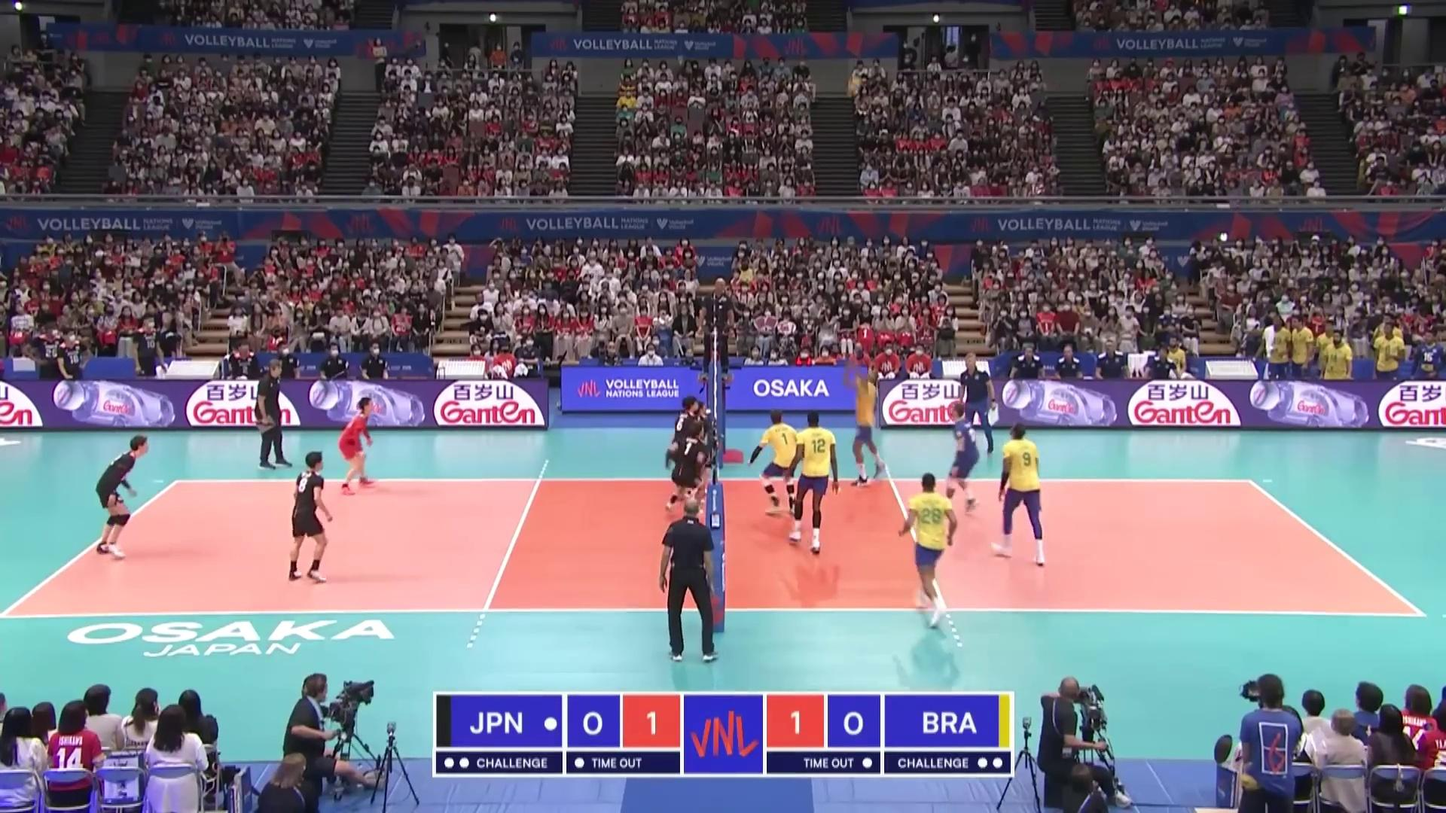player: (901, 474, 957, 629), (991, 422, 1048, 566), (788, 411, 840, 550), (94, 437, 147, 556), (287, 451, 333, 585), (748, 413, 800, 517), (847, 367, 889, 488), (940, 401, 981, 512), (668, 425, 709, 523), (335, 397, 375, 493), (668, 397, 701, 508), (686, 403, 708, 496)
refree: (660, 498, 717, 662), (700, 279, 734, 381)
